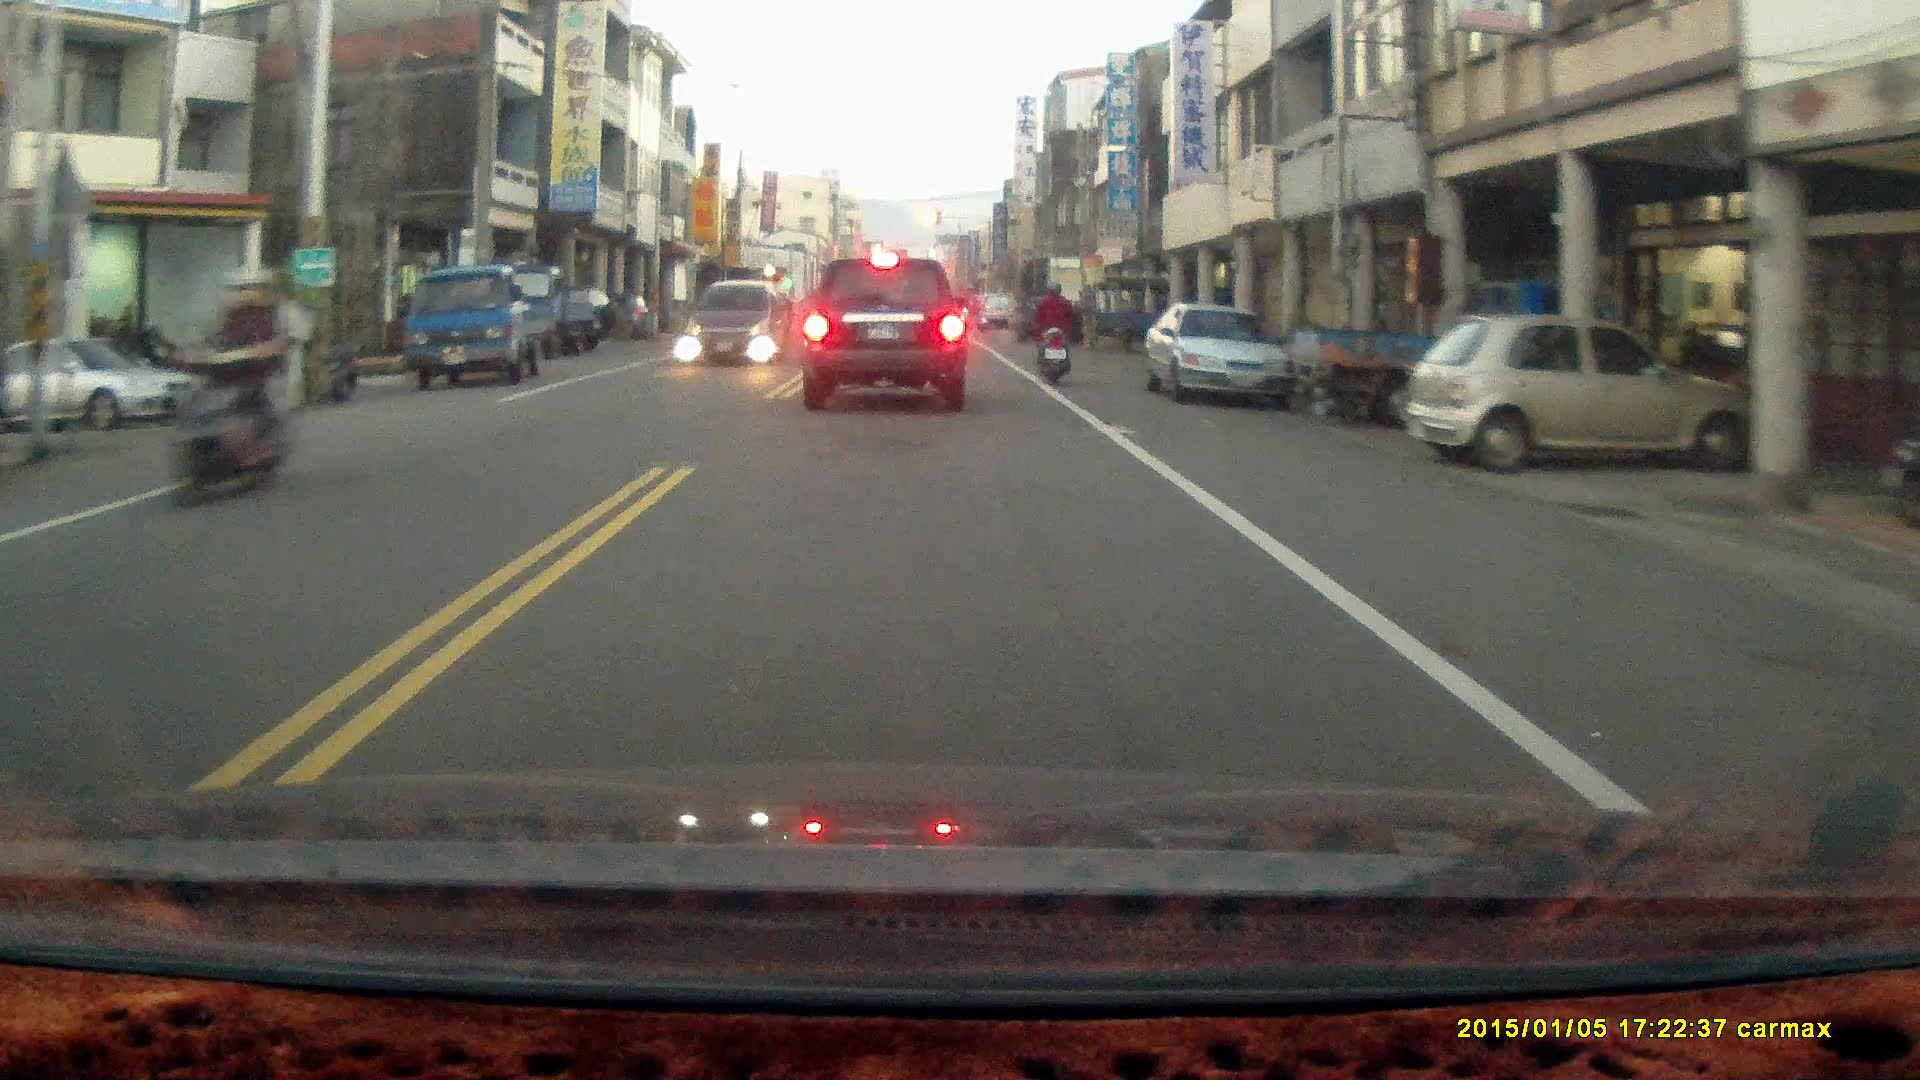rider: (156, 261, 315, 513), (1032, 278, 1074, 383)
vehicle: (1416, 312, 1746, 478), (796, 253, 971, 415), (405, 265, 567, 389), (1, 333, 207, 429), (1144, 304, 1303, 405), (684, 279, 787, 365)
